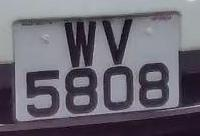0: (99, 61, 141, 113)
5: (24, 63, 65, 123)
8: (61, 65, 103, 118), (136, 56, 174, 112)
V: (99, 13, 135, 68)
W: (61, 16, 103, 71)
